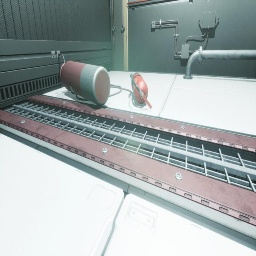FireExtinguisher ]: (130, 73, 152, 109)
NitrogenTank ,: (60, 60, 111, 106)
